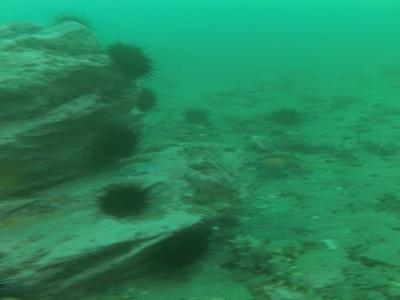holothurian: (226, 234, 323, 297)
urchin: (106, 42, 155, 80), (98, 179, 145, 218), (96, 129, 136, 163), (270, 108, 304, 133), (138, 89, 155, 110), (185, 110, 209, 124)
